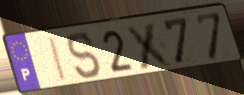2: (101, 29, 136, 75)
7: (161, 17, 193, 67), (196, 9, 223, 62)
I: (48, 35, 69, 84)
S: (66, 31, 104, 81)
X: (123, 19, 176, 71)
